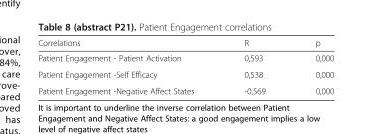table: (37, 37, 333, 95)
table column: (37, 37, 218, 95), (218, 37, 289, 95), (289, 37, 333, 95)
table column header: (37, 37, 333, 49)
table row: (37, 65, 333, 82), (37, 49, 333, 65), (37, 82, 333, 95), (37, 37, 333, 49)
